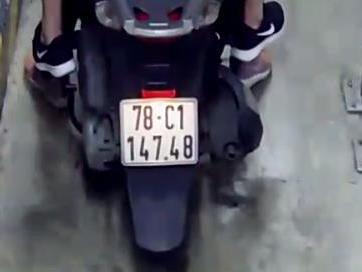num_plate: (120, 95, 198, 166)
